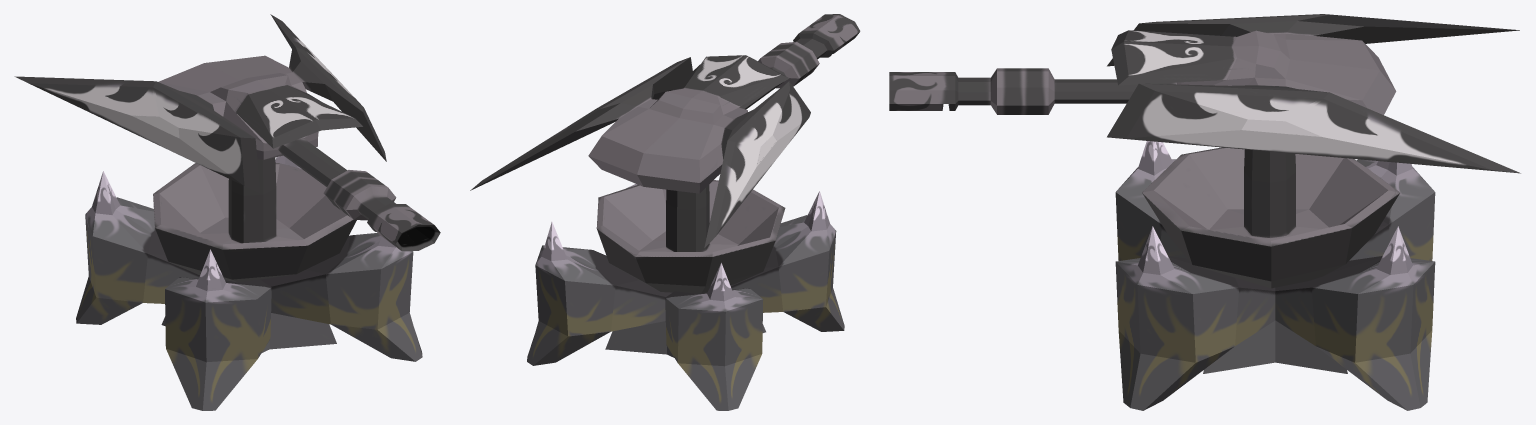
File: LaserTower.fbx
The picture shows the model from 3 angles, left to right: view 1: azimuth 30°, elevation 25°; view 2: azimuth 150°, elevation 25°; view 3: azimuth 270°, elevation 25°; orthographic projection. The views are drawn at different scales.
Visible parts, largest first — view 1: Cube.001, Cube; view 2: Cube.001, Cube; view 3: Cube.001, Cube.
Boxes of the visible parts, <box> form: Cube.001: <box>14,14,440,282</box>; Cube: <box>76,155,422,410</box>; Cube.001: <box>470,14,860,293</box>; Cube: <box>527,184,844,410</box>; Cube.001: <box>889,14,1520,288</box>; Cube: <box>1115,141,1435,410</box>.
Size of the model in its own units: 727 by 723 by 1357.
2 materials, 2 textured.
